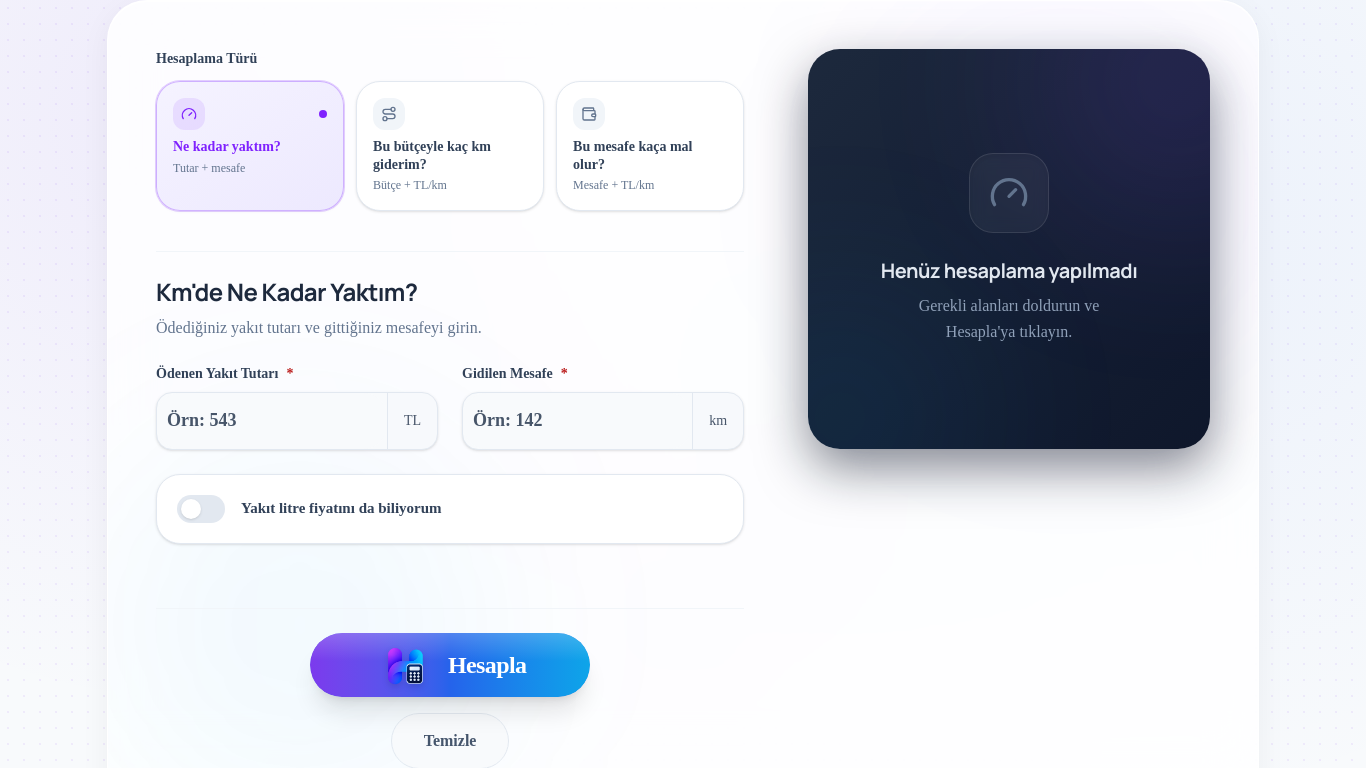
Yakıt tüketimi form › submits mode A without a fuel price while the optional switch is off
Type "543" into the field labelled "Ödenen Yakıt Tutarı *". click: (272, 420)
box: top-left (157, 392), bottom-right (387, 448)
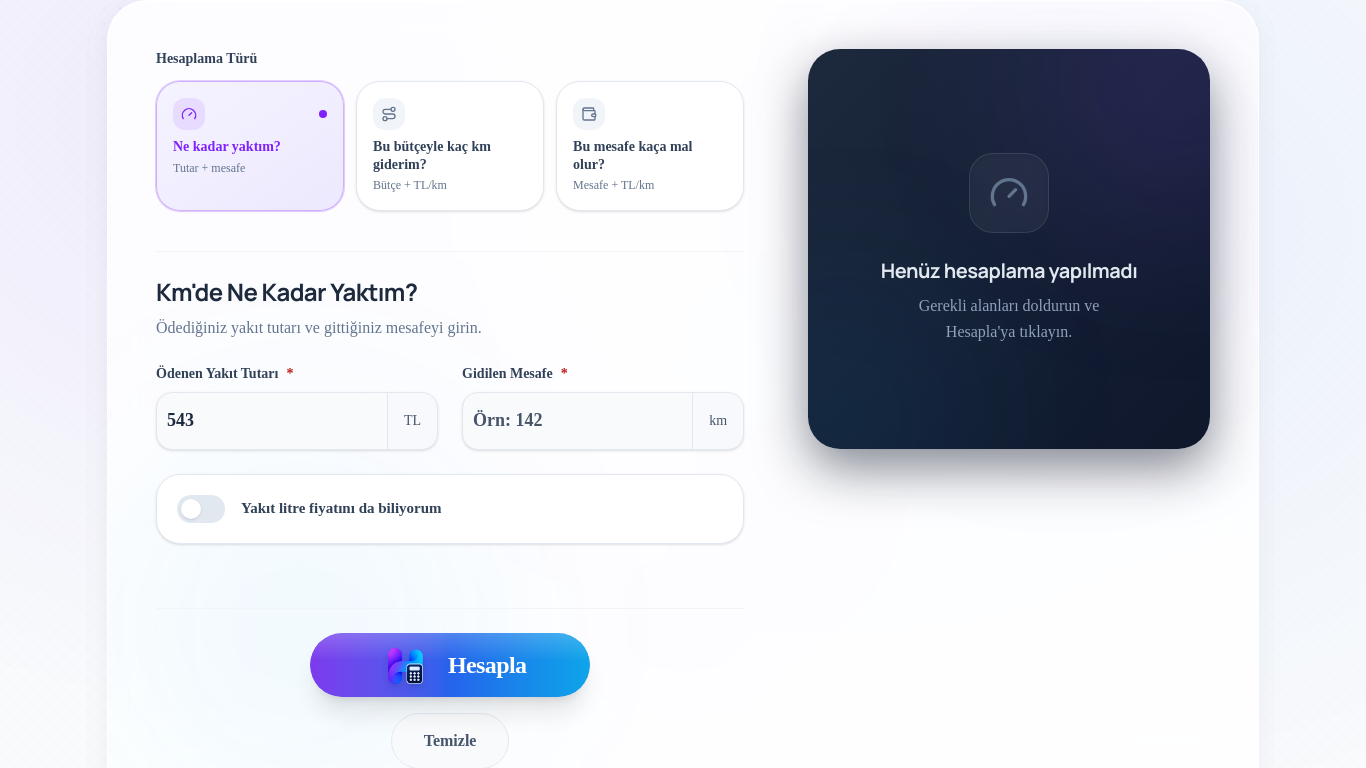
Type "142" into the field labelled "Gidilen Mesafe *". click: (578, 420)
box: top-left (463, 392), bottom-right (692, 448)
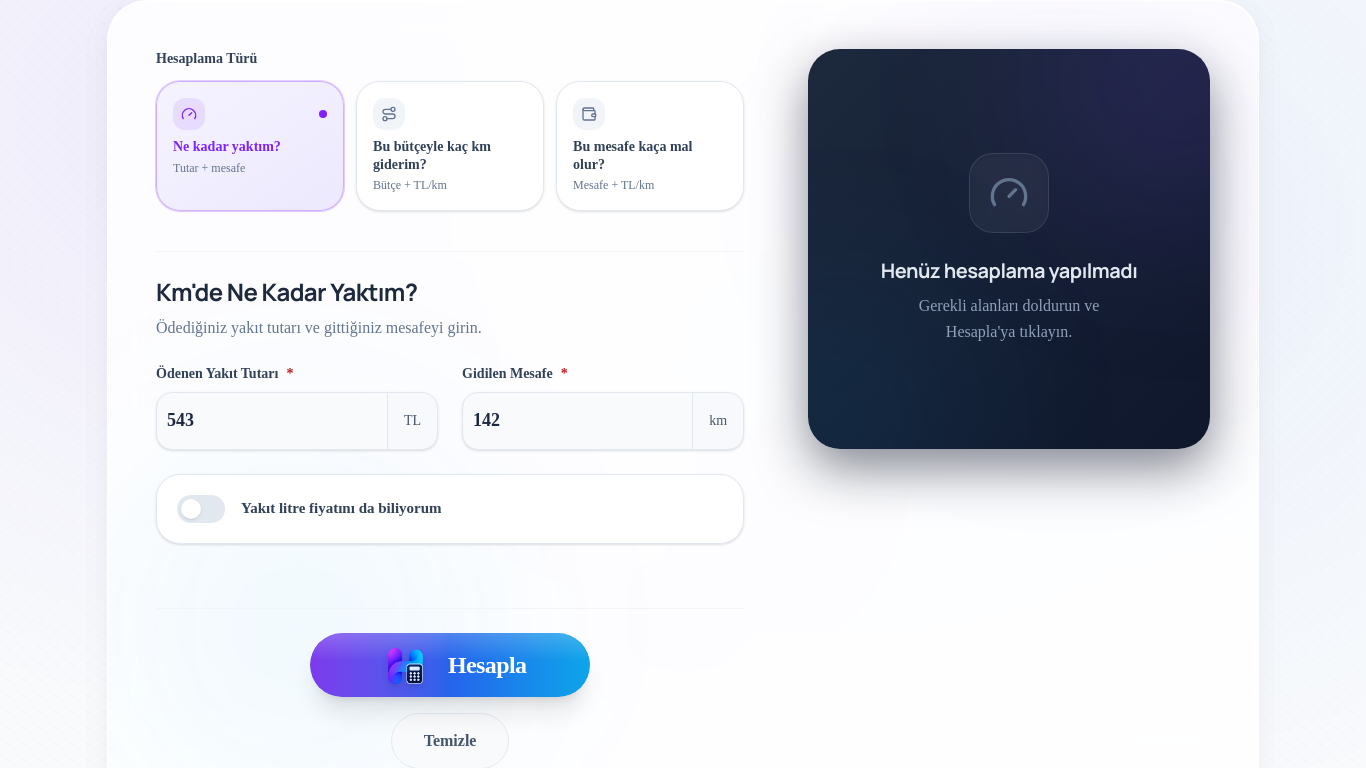
Click the button "Hesapla". click: (450, 664)
box: top-left (310, 632), bottom-right (590, 696)
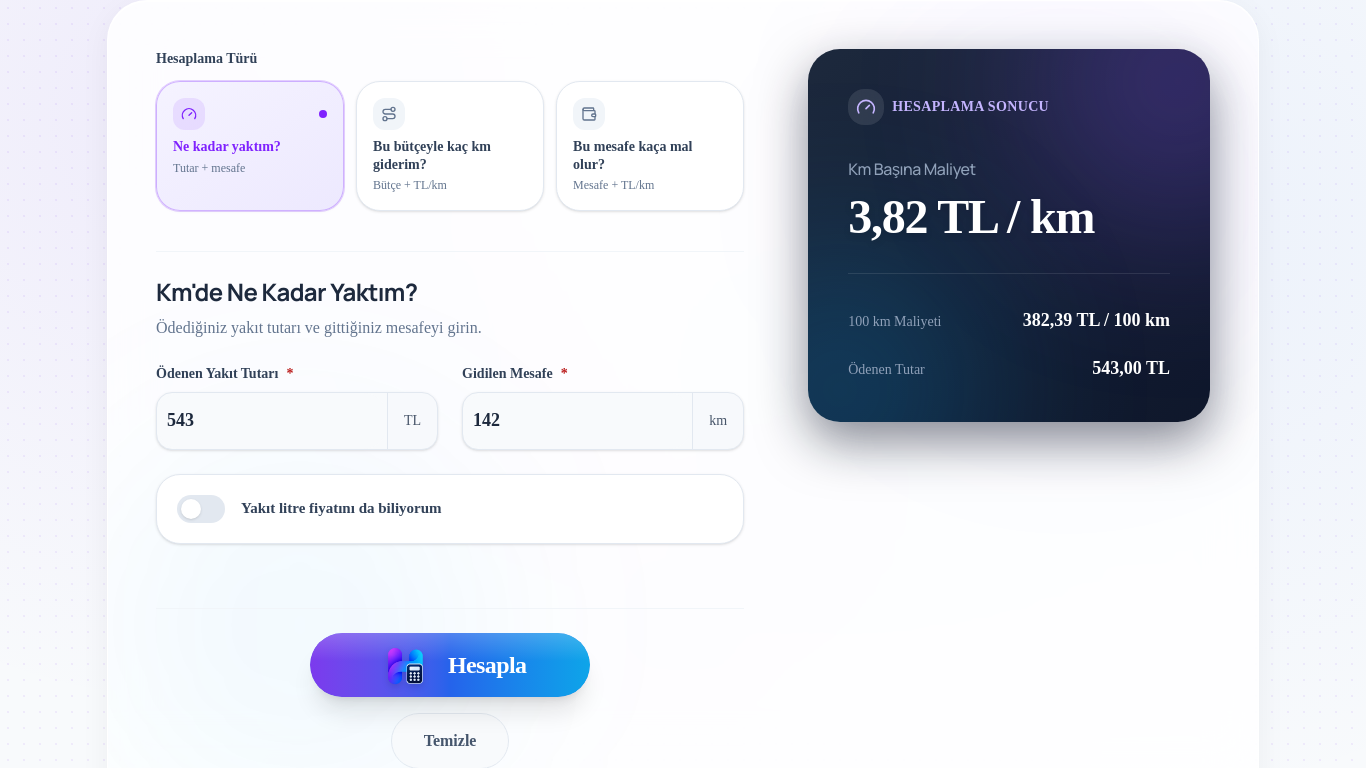
Now the text "3,82 TL / km" is shown, box top-left (848, 190), bottom-right (1094, 243)
